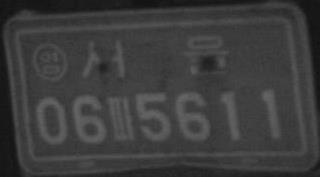0: (35, 94, 68, 145)
1: (253, 88, 289, 140), (214, 90, 250, 141)
5: (135, 91, 171, 142)
6: (174, 91, 212, 142), (71, 94, 107, 144)
서울_D: (80, 34, 229, 80)
영: (32, 42, 68, 83)
파: (107, 95, 135, 142)
